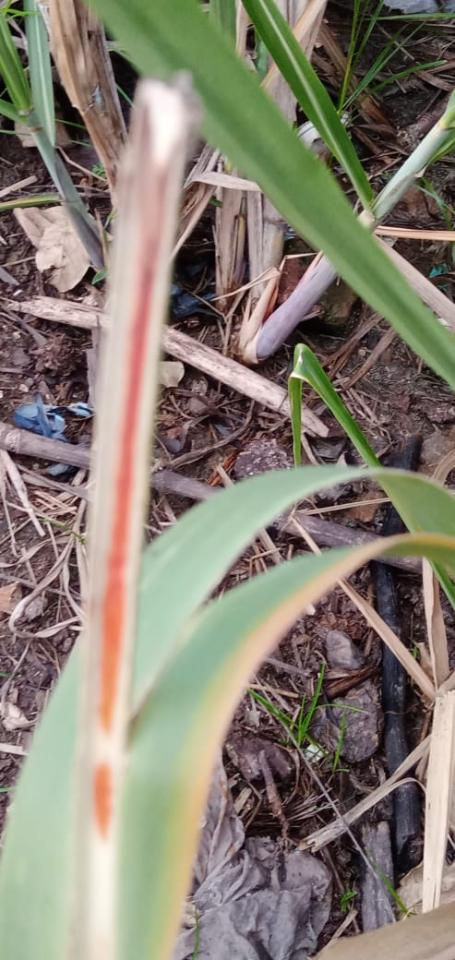RedRot: (97, 165, 165, 737), (92, 761, 114, 845)
Yellow: (160, 532, 454, 959)
